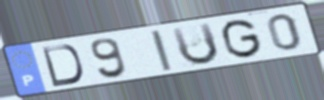0: (265, 12, 307, 52)
9: (90, 37, 129, 80)
D: (40, 43, 86, 89)
G: (220, 17, 265, 60)
I: (148, 28, 176, 73)
U: (169, 20, 222, 67)
